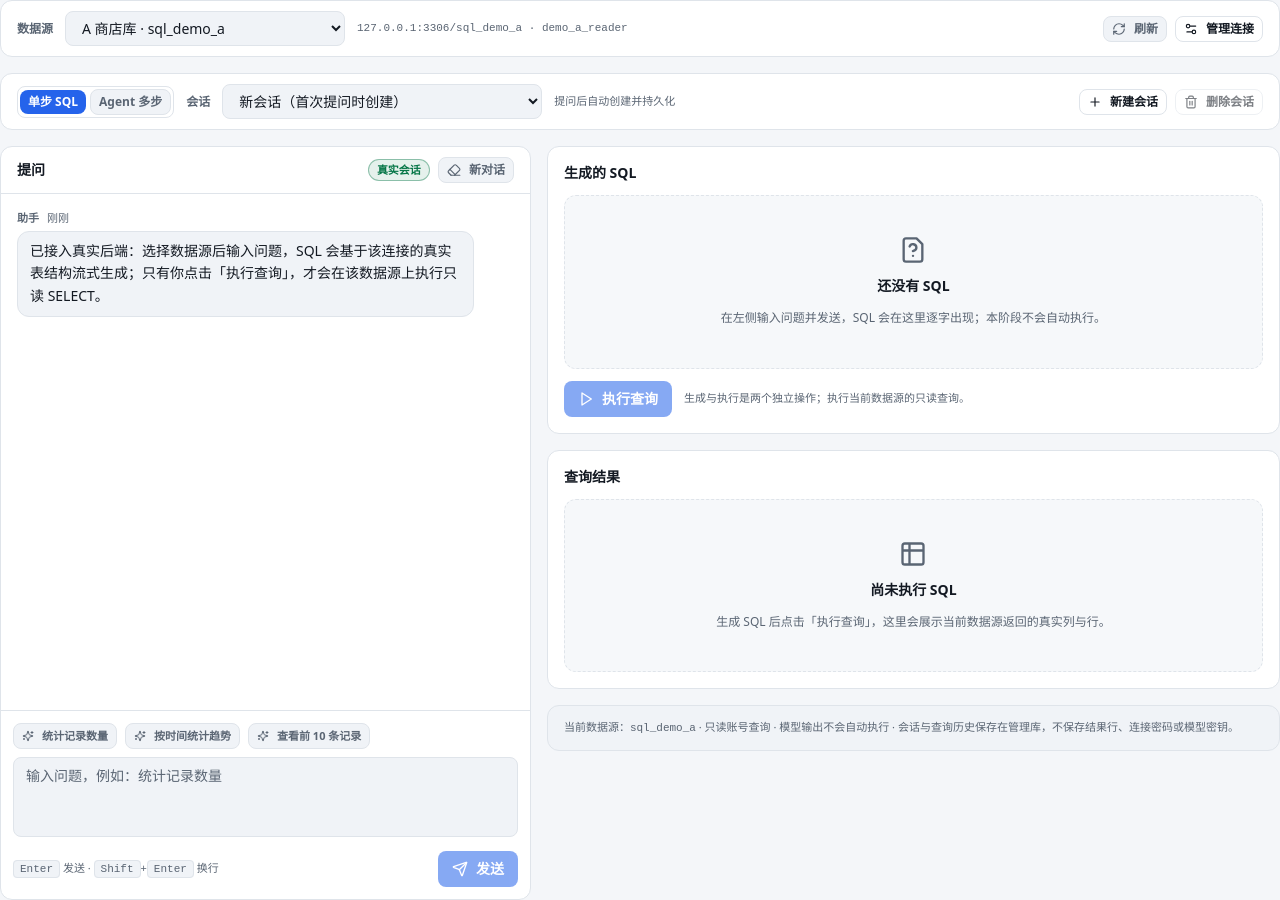
it: DashboardPage 真实工作台链路 › 执行时使用同一个 connectionId 与 conversationId 并渲染真实结果
Expected: the dropdown labelled "数据源" is shown, [65,11,345,46]
Type "统计订单数量" into the text box named "提问内容" at (265, 797), box [13,757,518,837]
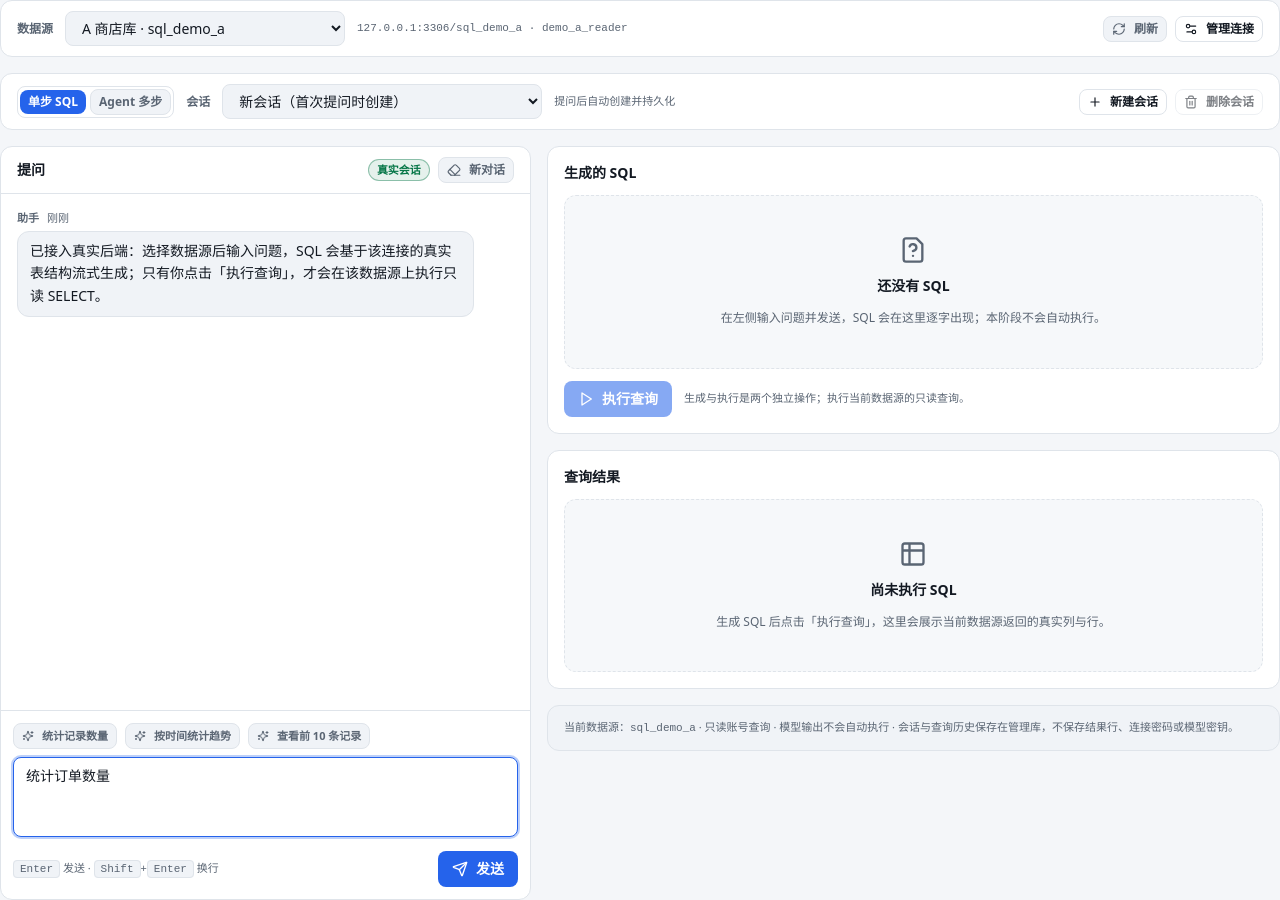
Click the button "发送" at (478, 869), box [438,851,518,887]
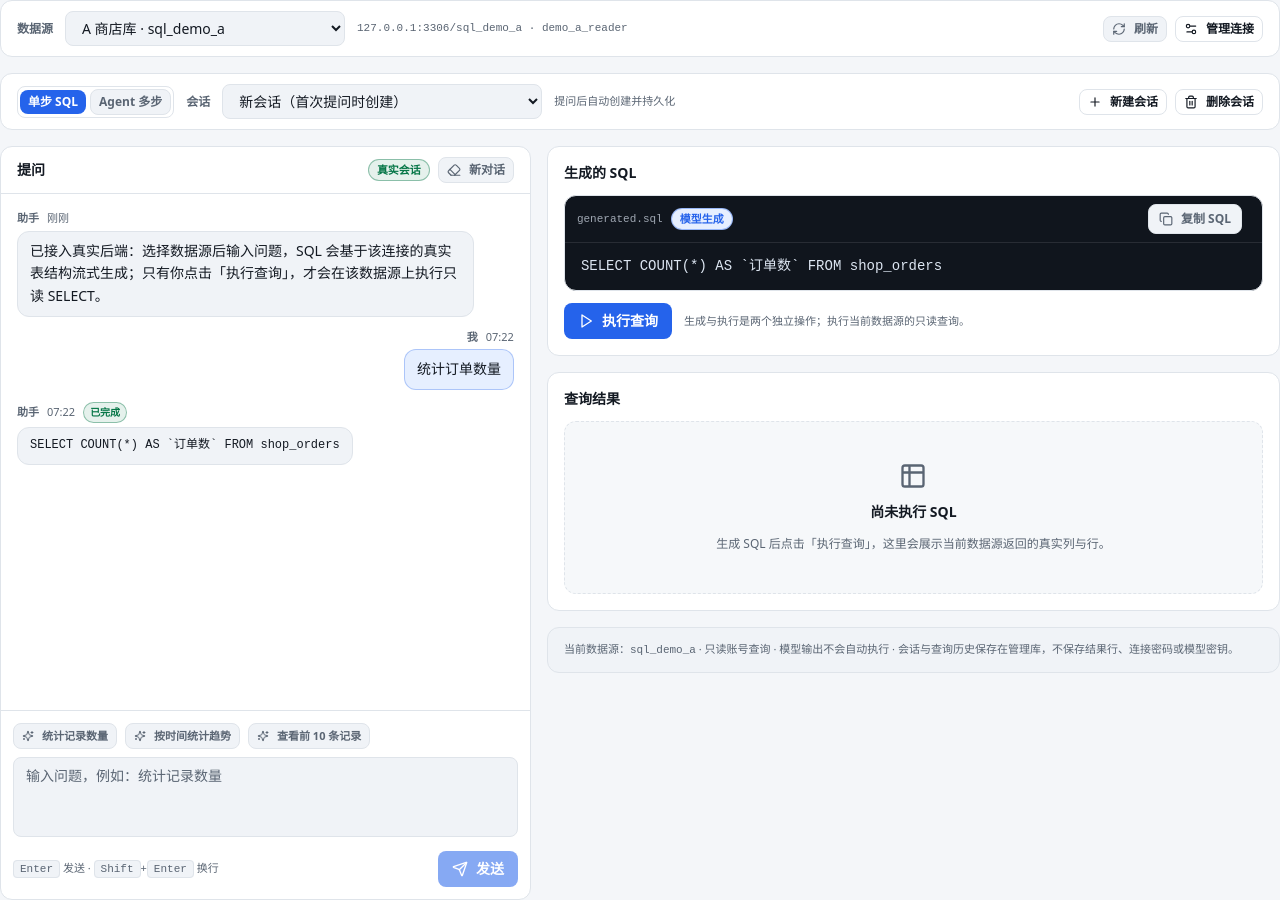
Click the button "执行查询" at (618, 321), box [564,303,672,339]
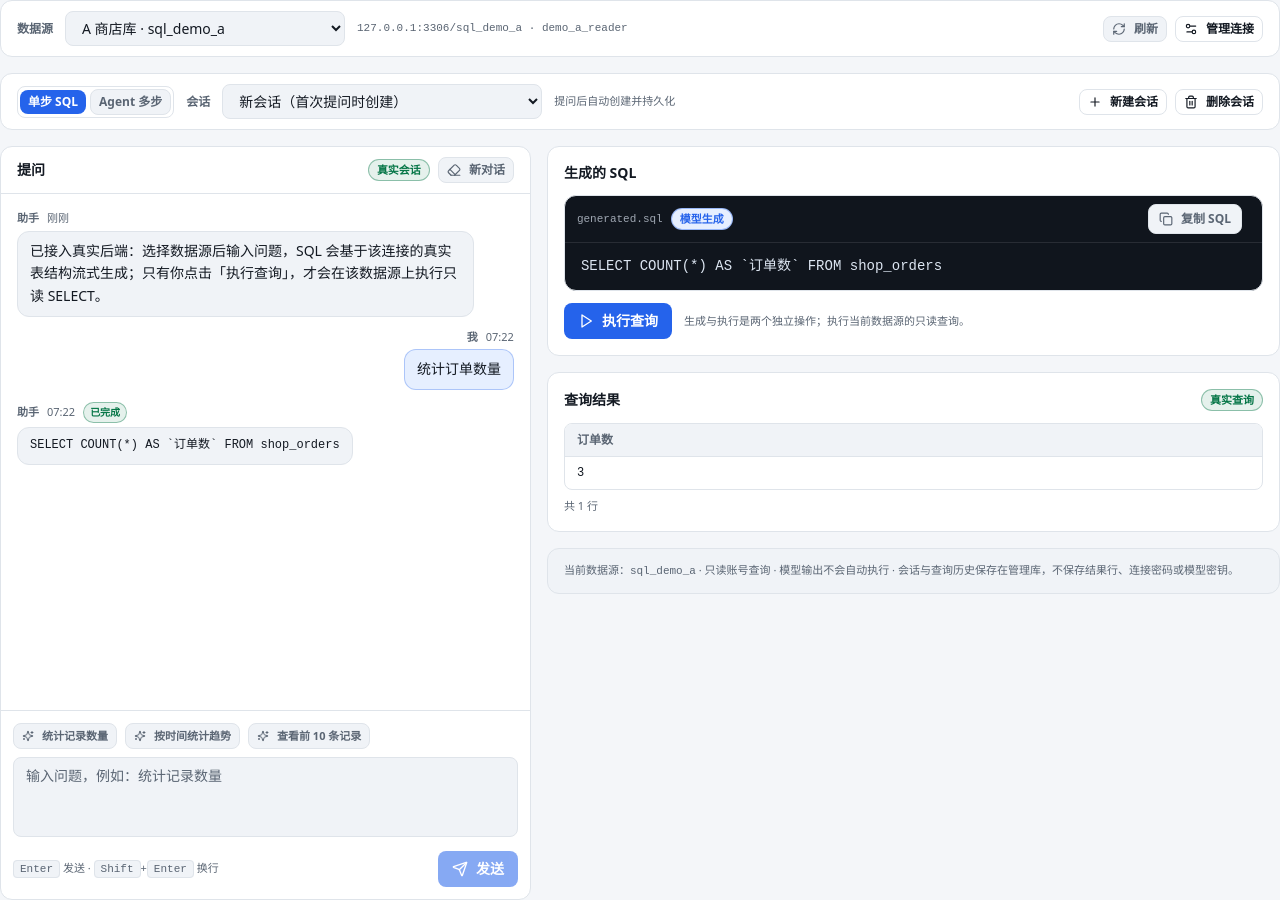
Expected: the text "真实查询" is shown, [1201,389,1263,411]
Expected: the cell "3" is shown, [565,457,1262,489]
